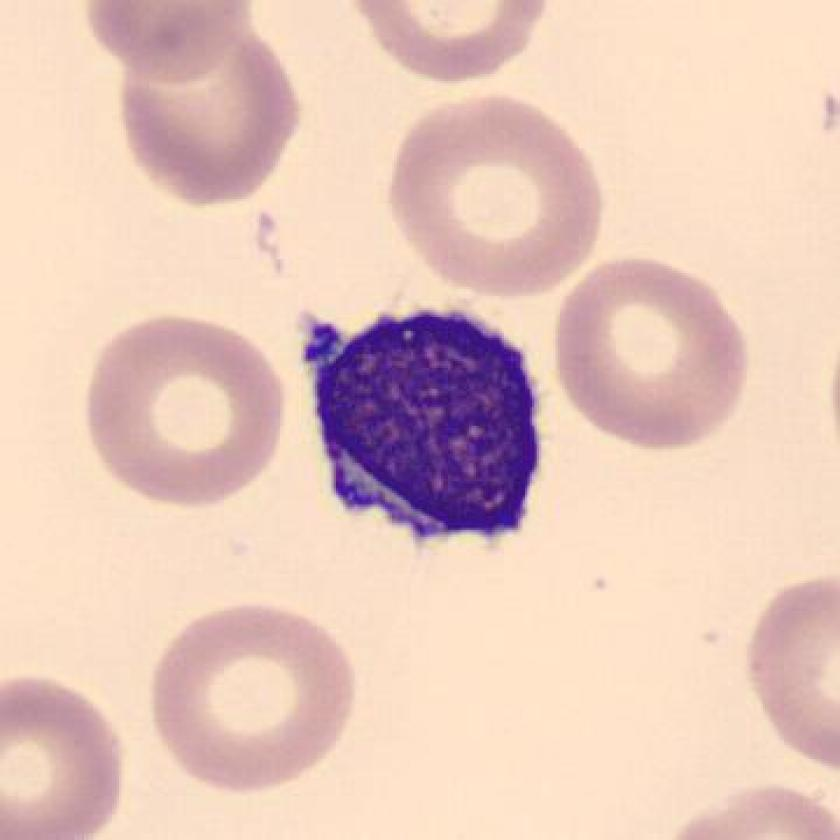lymphocyte: (291, 295, 564, 572)
